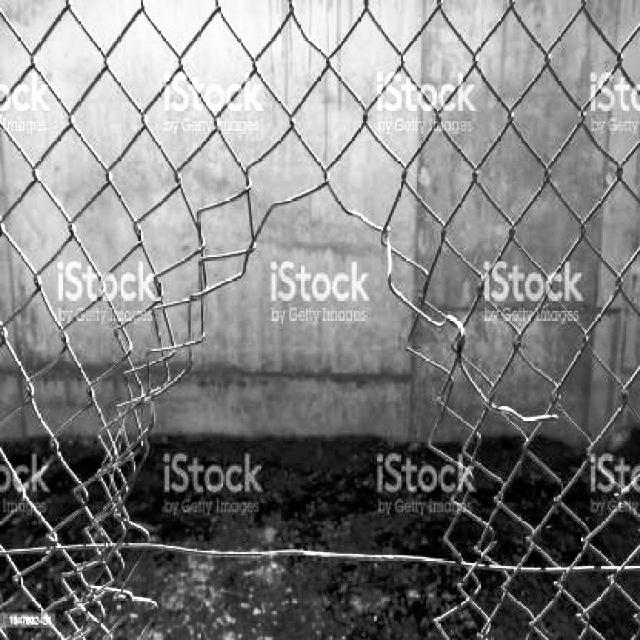anomaly-fence: (90, 157, 496, 640)
